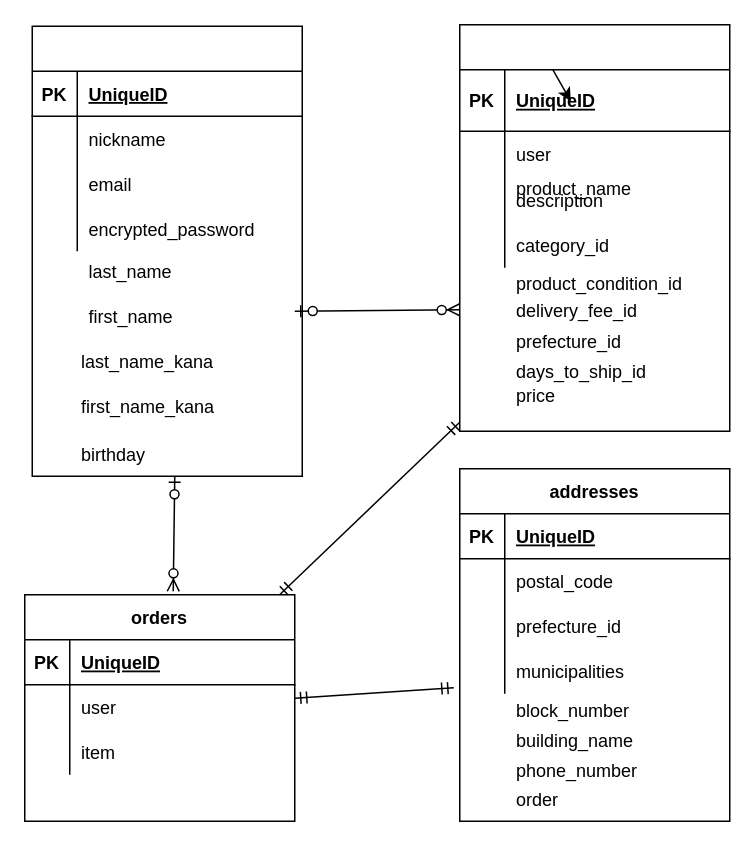
Some shapes in this 755 by 846 pixel diagram are drawn without their labels. Each missing label, with the box of its shape:
items: (458, 23, 730, 431)
users: (31, 25, 302, 476)
